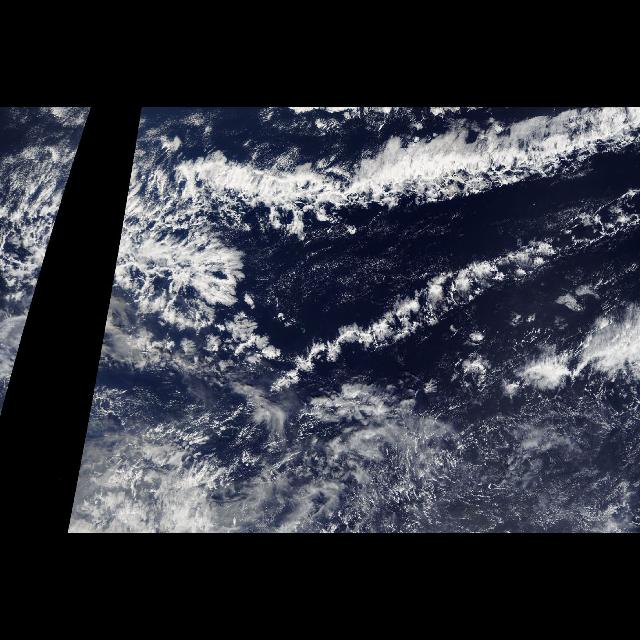Fish: (112, 115, 640, 373), (38, 119, 88, 264)
Gravel: (340, 384, 626, 516)
Sugar: (381, 404, 633, 534)
